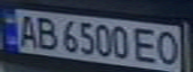0: (93, 21, 115, 57), (112, 24, 133, 61)
5: (75, 20, 96, 56)
6: (57, 18, 81, 54)
A: (12, 11, 42, 48)
B: (33, 15, 60, 52)
E: (133, 25, 160, 64)
O: (154, 28, 184, 67)
